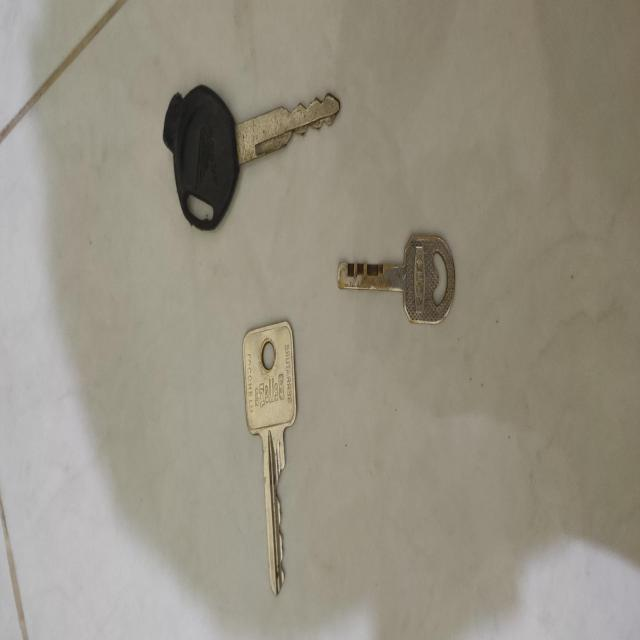kunci_kos: (240, 308, 302, 609)
kunci_motor: (158, 75, 342, 248)
kunci_pagar: (334, 227, 456, 332)
